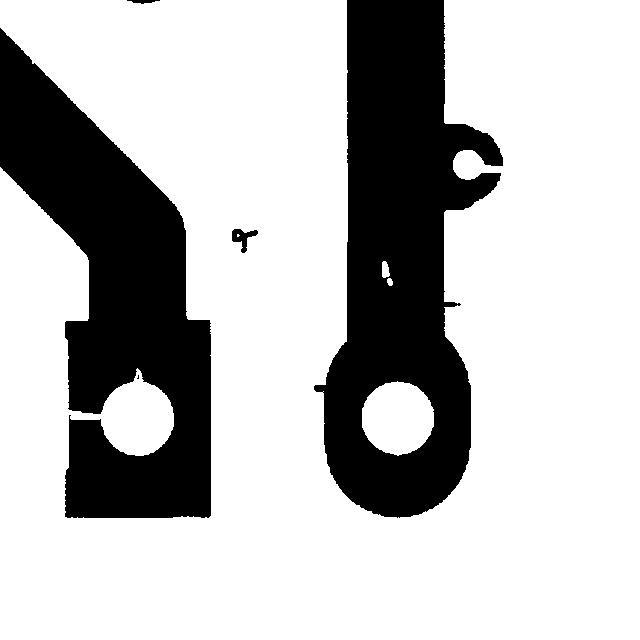copper: (222, 219, 267, 262)
mousebite: (124, 358, 153, 391)
open: (53, 400, 111, 429), (465, 154, 515, 182)
pin-hole: (372, 251, 402, 295)
spur: (304, 375, 339, 404), (431, 292, 470, 316)
